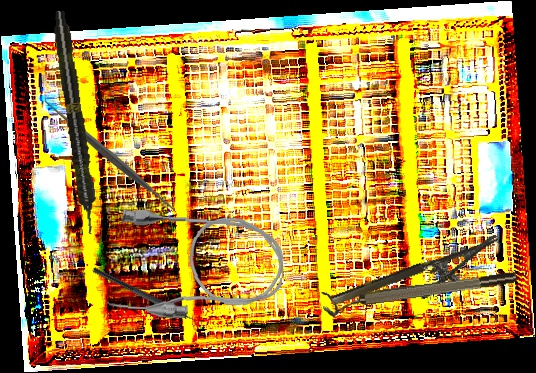Cannula: (106, 208, 286, 324)
Chopper: (88, 266, 206, 334)
Fixation Ring: (321, 268, 519, 318)
Handpiece: (49, 9, 101, 236)
Needle Holder: (329, 234, 509, 329)
Spatula Surgical: (45, 91, 175, 220)
